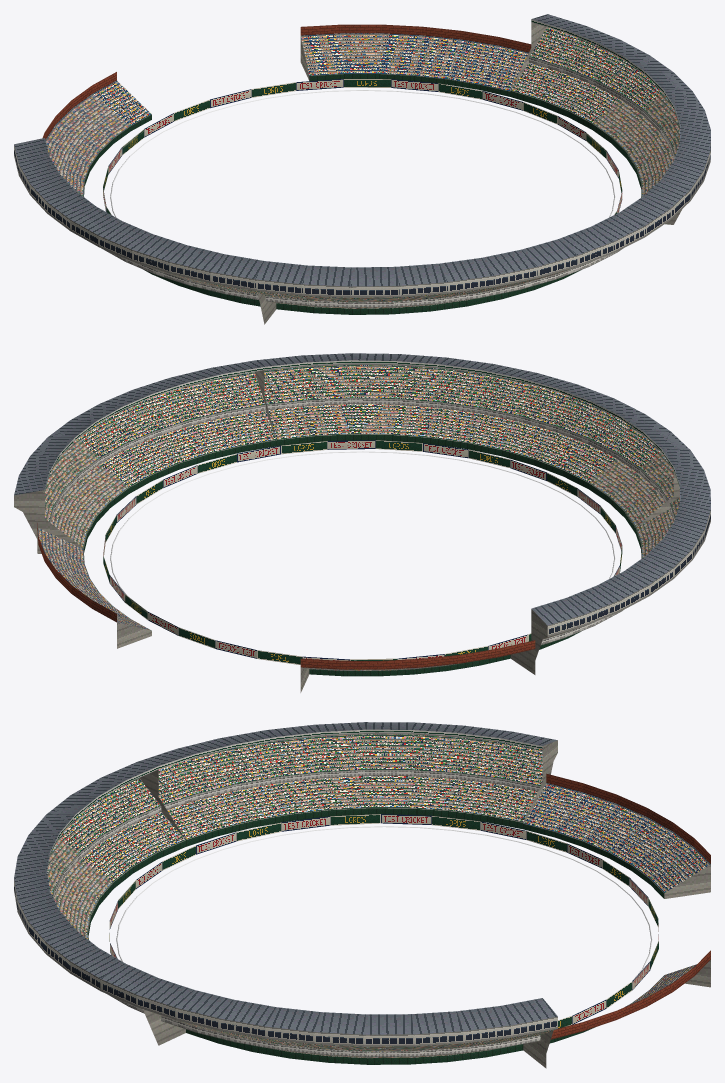
Rendered from stadium.glb.
3 renders of one model, top to bottom at view 1: azimuth 30°, elevation 25°; view 2: azimuth 150°, elevation 25°; view 3: azimuth 270°, elevation 25°, orthographic. The views are drawn at different scales.
Visible parts, largest first — view 1: stands, boards_lords, rope; view 2: stands, boards_lords, rope; view 3: stands, boards_lords, rope.
Part boxes in pixels (<box>): stands: <box>14,14,710,324</box>; boards_lords: <box>103,79,622,214</box>; rope: <box>110,90,615,217</box>; stands: <box>14,353,710,692</box>; boards_lords: <box>103,440,622,664</box>; rope: <box>110,451,615,595</box>; stands: <box>14,722,710,1068</box>; boards_lords: <box>109,814,658,1028</box>; rope: <box>116,826,652,980</box>.
Size of the model in its own units: 180 by 18.2 by 169.
15 materials, 15 textured.
